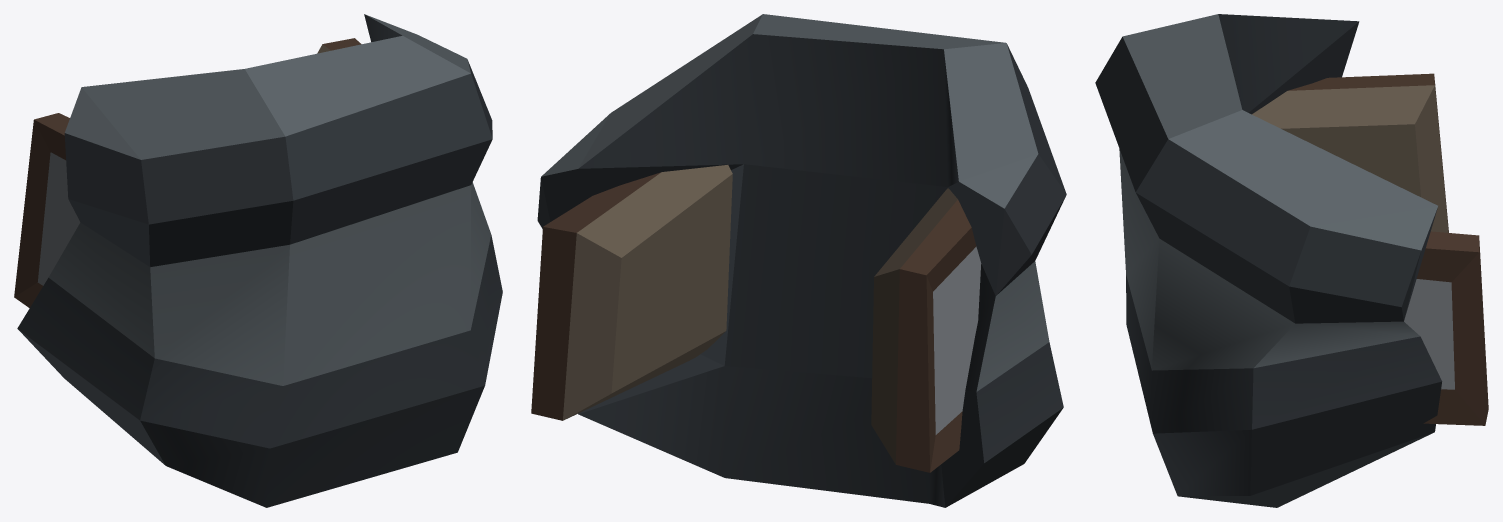
File: Chr_KneeAttachLeft_03_Static.fbx
3 views of the same model, side by side, from view 1: azimuth 30°, elevation 25°; view 2: azimuth 150°, elevation 25°; view 3: azimuth 270°, elevation 25° (orthographic). The views are drawn at different scales.
Parts seen in each view (by area): view 1: Chr_KneeAttachLeft_03_Static; view 2: Chr_KneeAttachLeft_03_Static; view 3: Chr_KneeAttachLeft_03_Static.
Boxes of the visible parts, <box> form: Chr_KneeAttachLeft_03_Static: <box>14,14,502,507</box>; Chr_KneeAttachLeft_03_Static: <box>531,14,1066,507</box>; Chr_KneeAttachLeft_03_Static: <box>1095,14,1488,507</box>.
Size of the model in its own units: 0.1786 by 0.1731 by 0.1502.
